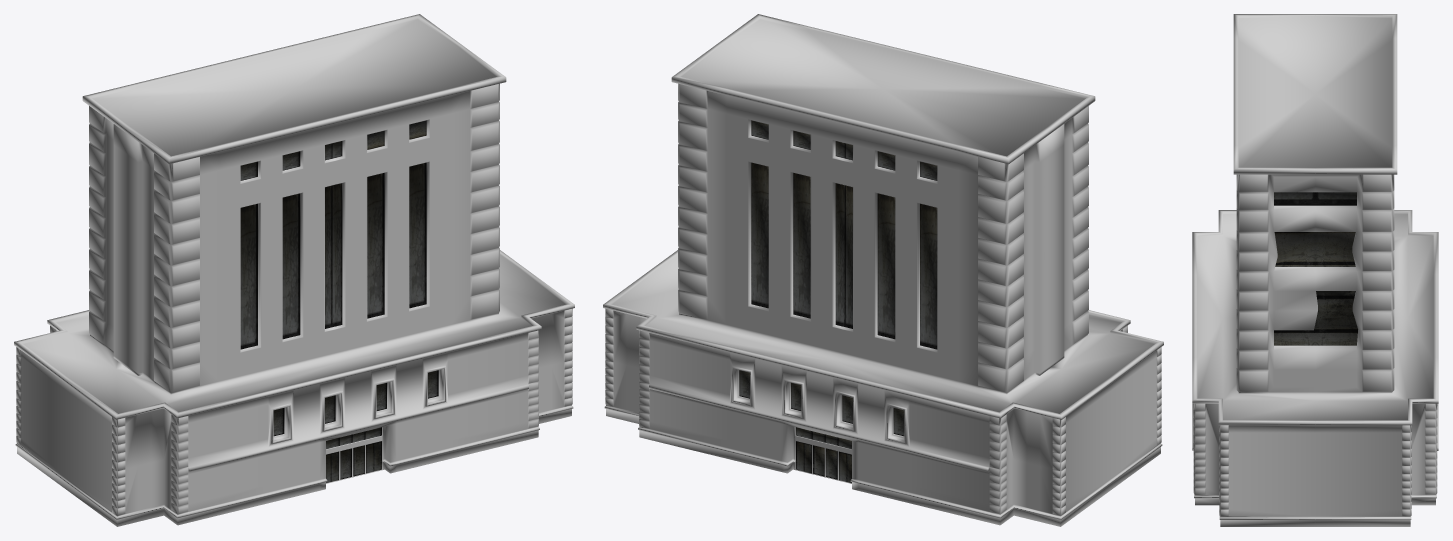
File: SM_Building_02.FBX
3 renders of one model, left to right at view 1: azimuth 30°, elevation 25°; view 2: azimuth 150°, elevation 25°; view 3: azimuth 270°, elevation 25°, orthographic. The views are drawn at different scales.
Parts seen in each view (by area): view 1: SM_Building_02_LOD0; view 2: SM_Building_02_LOD0; view 3: SM_Building_02_LOD0.
Part boxes in pixels (x1=…): SM_Building_02_LOD0: x1=14, y1=14, x2=574, y2=526; SM_Building_02_LOD0: x1=603, y1=14, x2=1163, y2=526; SM_Building_02_LOD0: x1=1192, y1=14, x2=1438, y2=526.
Size of what is drawn, in the model's own units: 5769 by 4741 by 2832.
